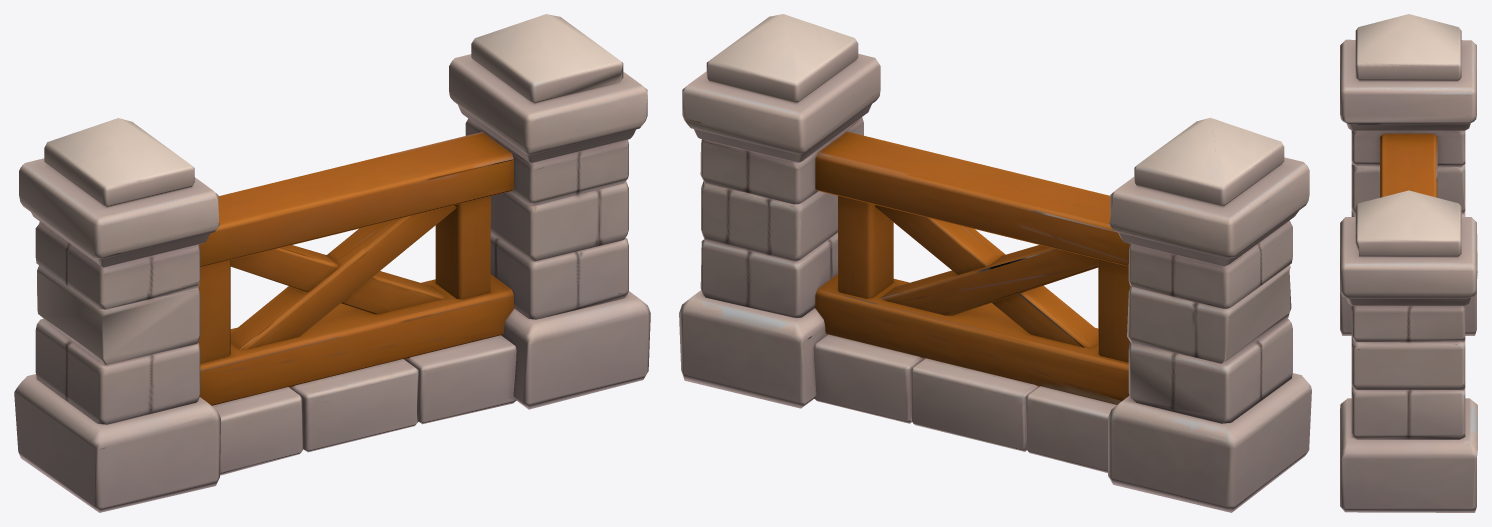
Rendered from fence_stone.glb.
3 renders of one model, left to right at view 1: azimuth 30°, elevation 25°; view 2: azimuth 150°, elevation 25°; view 3: azimuth 270°, elevation 25°, orthographic. The views are drawn at different scales.
Visible parts, largest first — view 1: fence_stone; view 2: fence_stone; view 3: fence_stone.
Boxes of the visible parts, bbox=[...] form: fence_stone: bbox=[14, 14, 650, 512]; fence_stone: bbox=[679, 14, 1311, 512]; fence_stone: bbox=[1340, 14, 1477, 512].
Bounding box in the file's own units: 0.6377 × 0.3867 × 0.1616.
Materials: 1 (1 with a texture image).
